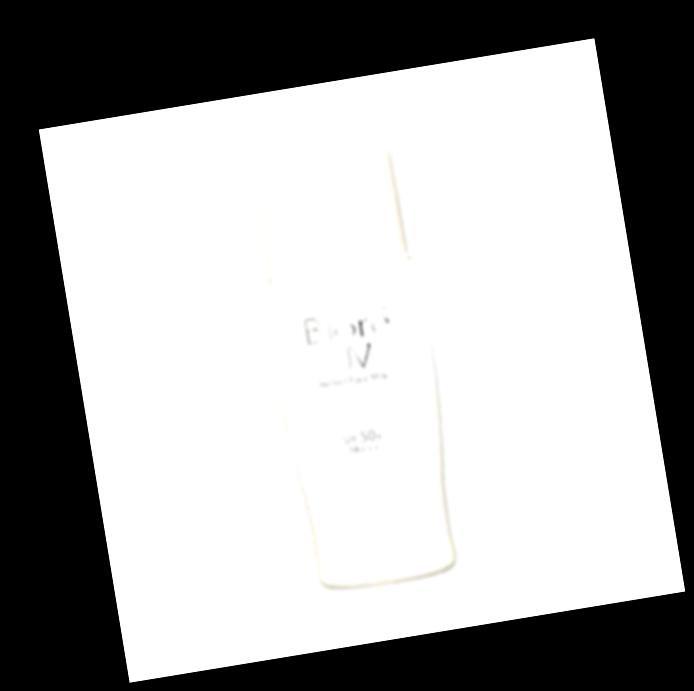cosmetic: (245, 139, 471, 596)
